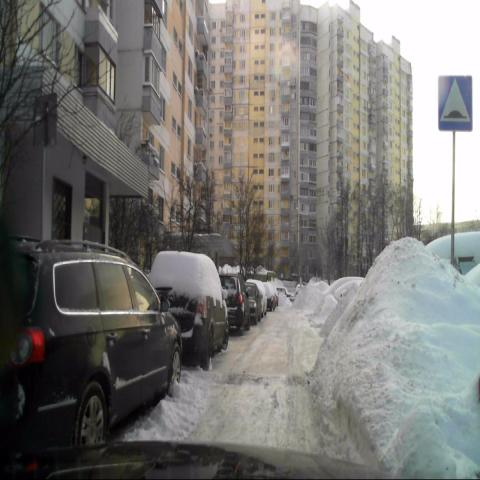5_20: (438, 75, 471, 130)
